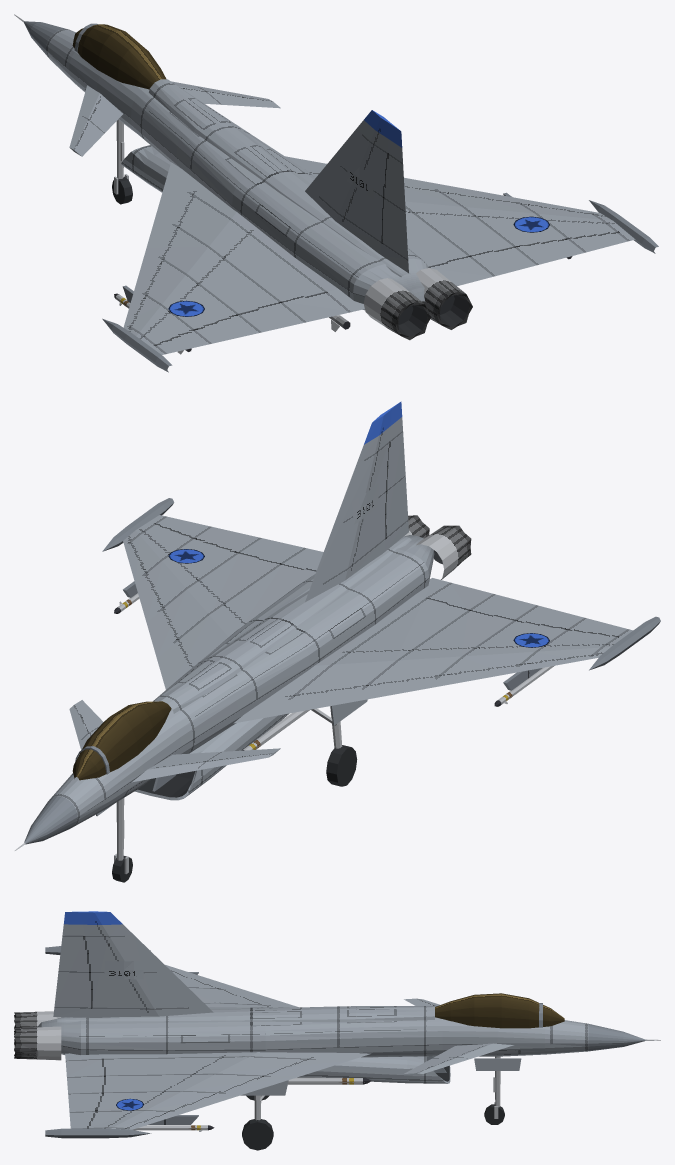
Rendered from typhoon.glb.
The picture shows the model from 3 angles, top to bottom: view 1: azimuth 30°, elevation 25°; view 2: azimuth 150°, elevation 25°; view 3: azimuth 270°, elevation 25°; orthographic projection. The views are drawn at different scales.
Visible parts, largest first — view 1: airframe, canopy, flap_l, flap_r, rudder, canard_l, aileron_r, aileron_l, canard_r, gear_nose; view 2: airframe, canopy, flap_l, canard_l, rudder, aileron_l, aileron_r, flap_r, gear_main_l, gear_nose, canard_r; view 3: airframe, canopy, rudder, flap_r, canard_r, aileron_r, gear_main_r, gear_nose, door_nose, msl_3, msl_1, door_main_r.
Part boxes in pixels (left/top/right/bottom): airframe: left=14, top=14, right=658, bottom=372; canopy: left=72, top=23, right=166, bottom=89; flap_l: left=239, top=291, right=351, bottom=332; flap_r: left=428, top=247, right=536, bottom=286; rudder: left=381, top=152, right=408, bottom=258; canard_l: left=69, top=85, right=122, bottom=156; aileron_r: left=513, top=232, right=627, bottom=265; aileron_l: left=156, top=314, right=261, bottom=353; canard_r: left=171, top=81, right=280, bottom=108; gear_nose: left=112, top=119, right=132, bottom=204; airframe: left=14, top=401, right=660, bottom=850; canopy: left=72, top=701, right=171, bottom=780; flap_l: left=425, top=582, right=535, bottom=620; canard_l: left=132, top=748, right=280, bottom=782; rudder: left=385, top=430, right=408, bottom=537; aileron_l: left=514, top=605, right=627, bottom=636; aileron_r: left=156, top=517, right=261, bottom=553; flap_r: left=239, top=538, right=323, bottom=571; gear_main_l: left=311, top=706, right=357, bottom=786; gear_nose: left=112, top=798, right=132, bottom=882; canard_r: left=69, top=700, right=103, bottom=749; airframe: left=14, top=911, right=660, bottom=1138; canopy: left=435, top=993, right=564, bottom=1028; rudder: left=54, top=935, right=92, bottom=1006; flap_r: left=65, top=1058, right=105, bottom=1093; canard_r: left=404, top=1043, right=513, bottom=1074; aileron_r: left=68, top=1092, right=103, bottom=1128; gear_main_r: left=242, top=1095, right=273, bottom=1150; gear_nose: left=484, top=1056, right=504, bottom=1124; door_nose: left=474, top=1058, right=521, bottom=1070; msl_3: left=288, top=1077, right=371, bottom=1084; msl_1: left=132, top=1125, right=214, bottom=1131; door_main_r: left=240, top=1080, right=288, bottom=1095.
Size of the model in its own units: 11.24 by 5.95 by 16.45.
6 materials, 6 textured.
